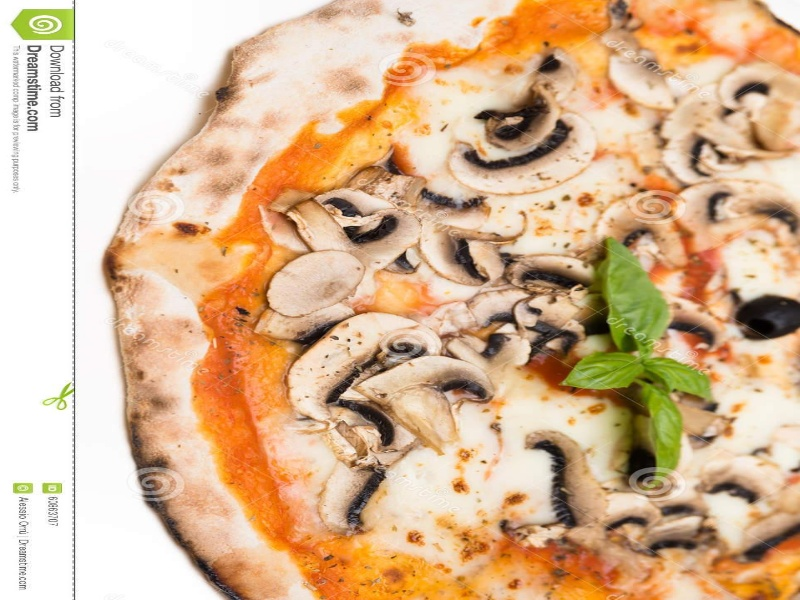champignon: (281, 308, 436, 427), (359, 347, 500, 461), (449, 108, 600, 198), (285, 194, 422, 275), (594, 183, 690, 277), (422, 207, 523, 296), (504, 247, 598, 303)
